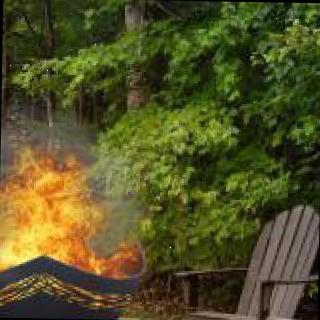fire: (0, 131, 108, 297), (88, 137, 148, 272)
